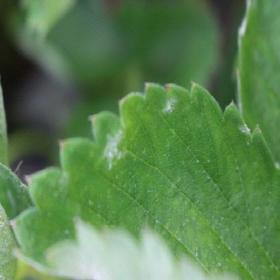Powdery Mildew Leaf: (8, 79, 279, 279)
